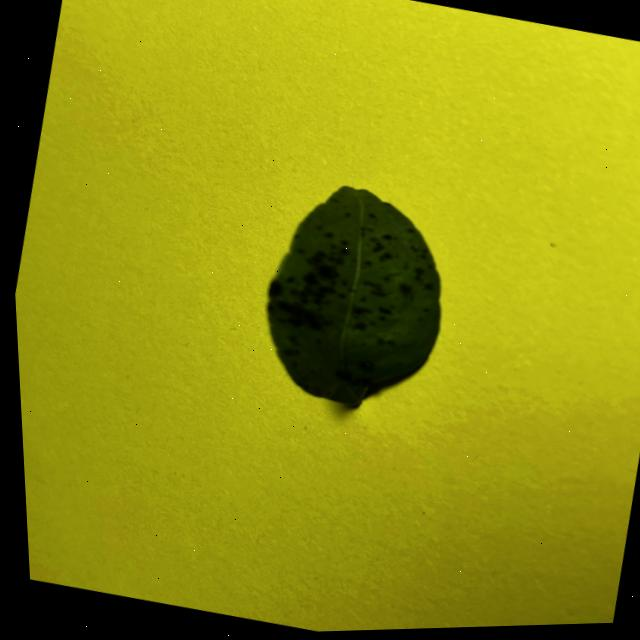sooty_mold: (266, 186, 438, 404)
